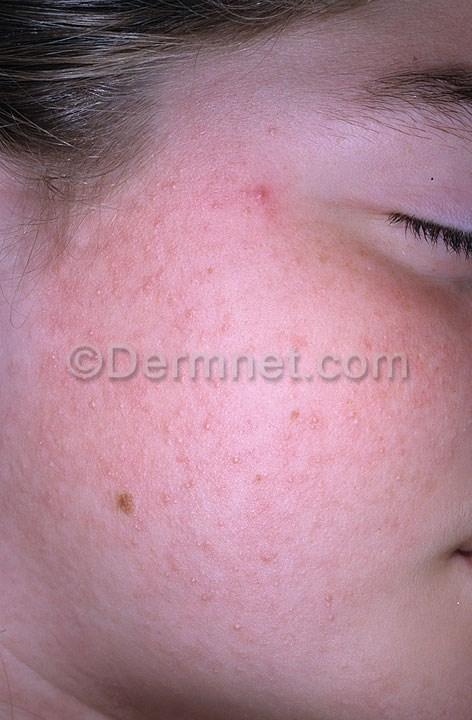edema 1: (17, 137, 471, 643)
eritema 1: (53, 123, 471, 545)
